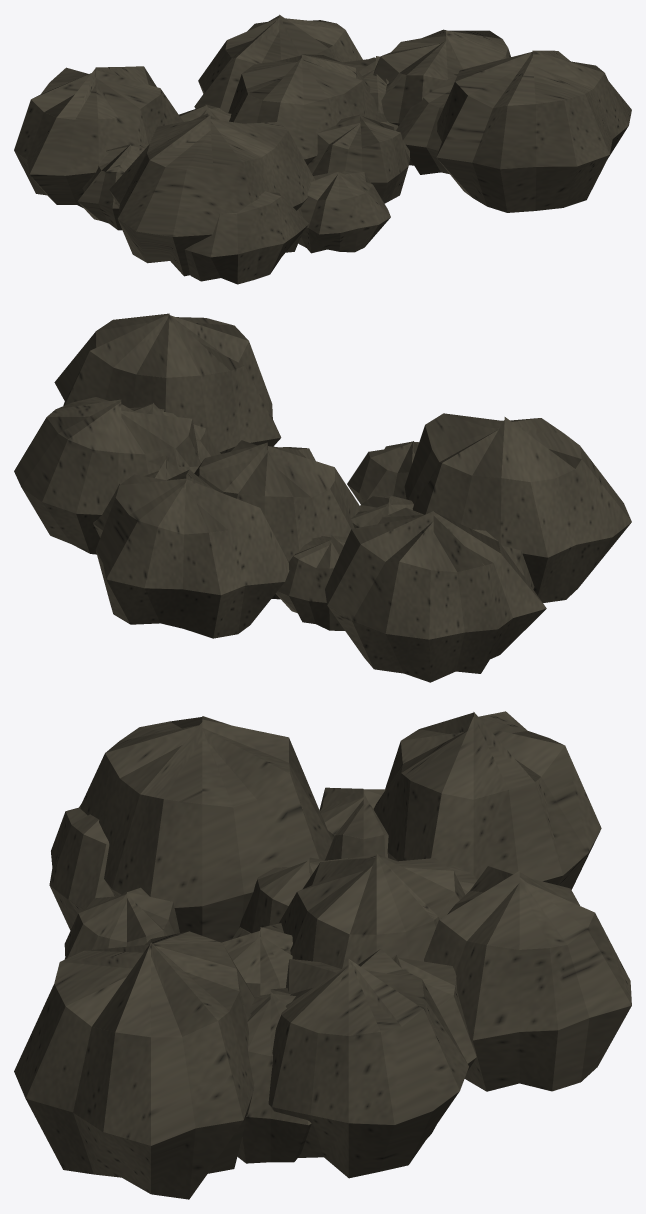
File: PROP-7FF3B6AEE82E_lod0.glb
The picture shows the model from 3 angles, top to bottom: view 1: azimuth 30°, elevation 25°; view 2: azimuth 150°, elevation 25°; view 3: azimuth 270°, elevation 25°; orthographic projection. The views are drawn at different scales.
Parts seen in each view (by area): view 1: rock.007; view 2: rock.007; view 3: rock.007.
Boxes of the visible parts, left/top/right/bottom form: rock.007: left=14, top=14, right=631, bottom=284; rock.007: left=14, top=313, right=631, bottom=682; rock.007: left=14, top=711, right=631, bottom=1199.
Bounding box in the file's own units: 1.79 × 0.4504 × 1.21.
Materials: 1 (1 with a texture image).
